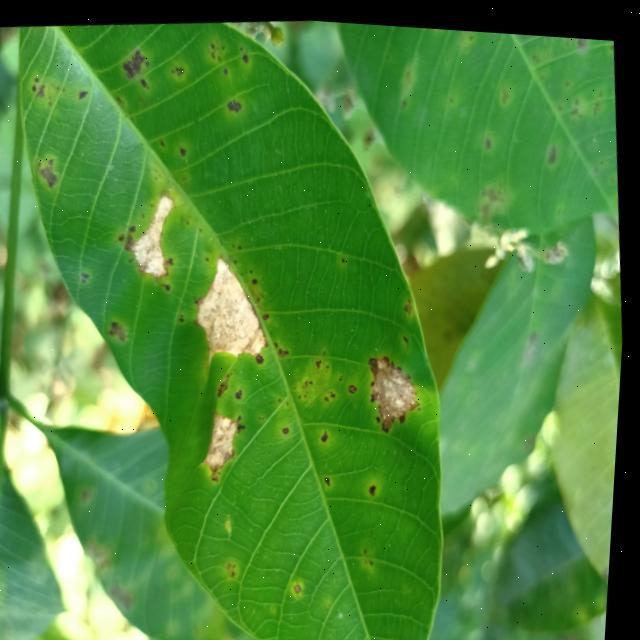Colletotrichum: (351, 377, 361, 389), (324, 425, 332, 437), (373, 478, 381, 489), (299, 578, 307, 589), (286, 422, 294, 430), (329, 472, 335, 478)
Leaf-Blight: (191, 250, 275, 367), (130, 191, 180, 277), (372, 351, 426, 425), (204, 407, 246, 466)
